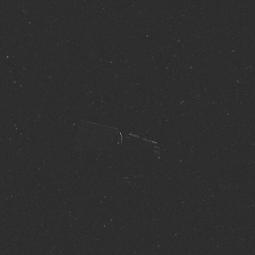earth_observation_sat_1: (66, 110, 168, 168)
